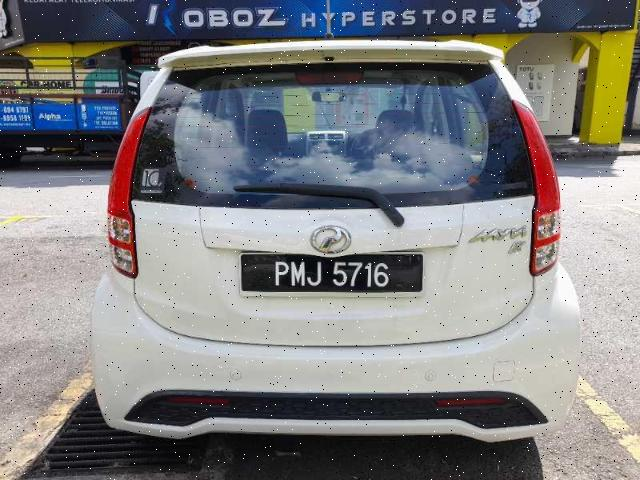License_Plate: (239, 251, 426, 297)
car: (90, 39, 582, 444)
